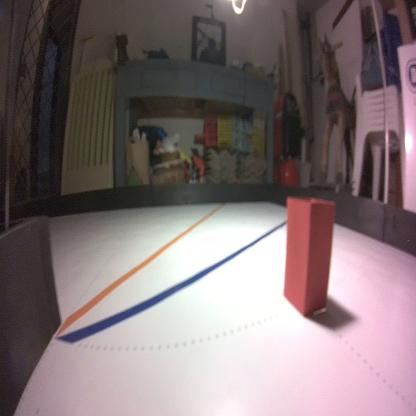red: (282, 192, 332, 314)
